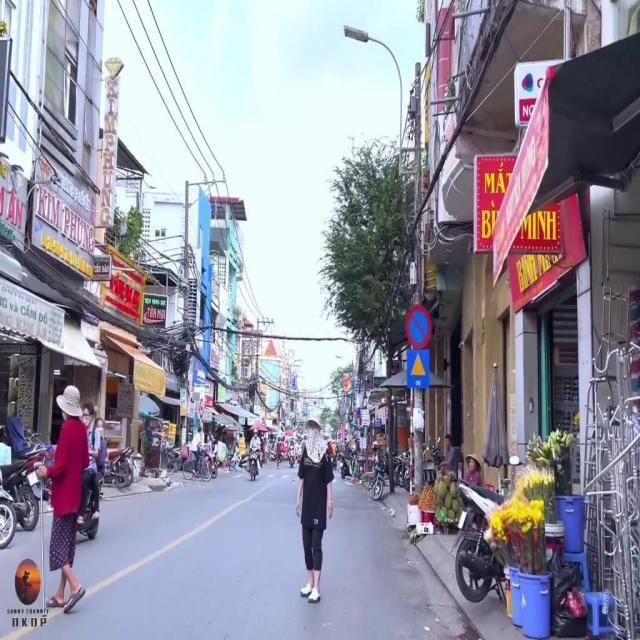106-cam-oto-tai: (199, 399, 204, 418)
131a-cam-do-xe: (404, 306, 432, 348)
442-cho: (406, 350, 429, 388)
